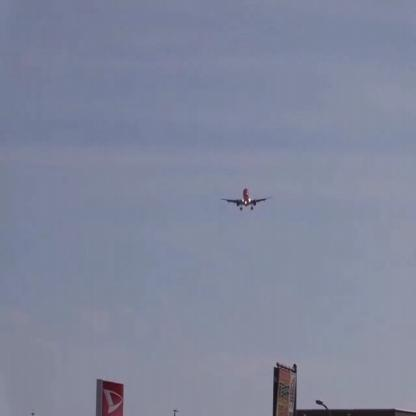CIV_Plane: (219, 188, 271, 210)
